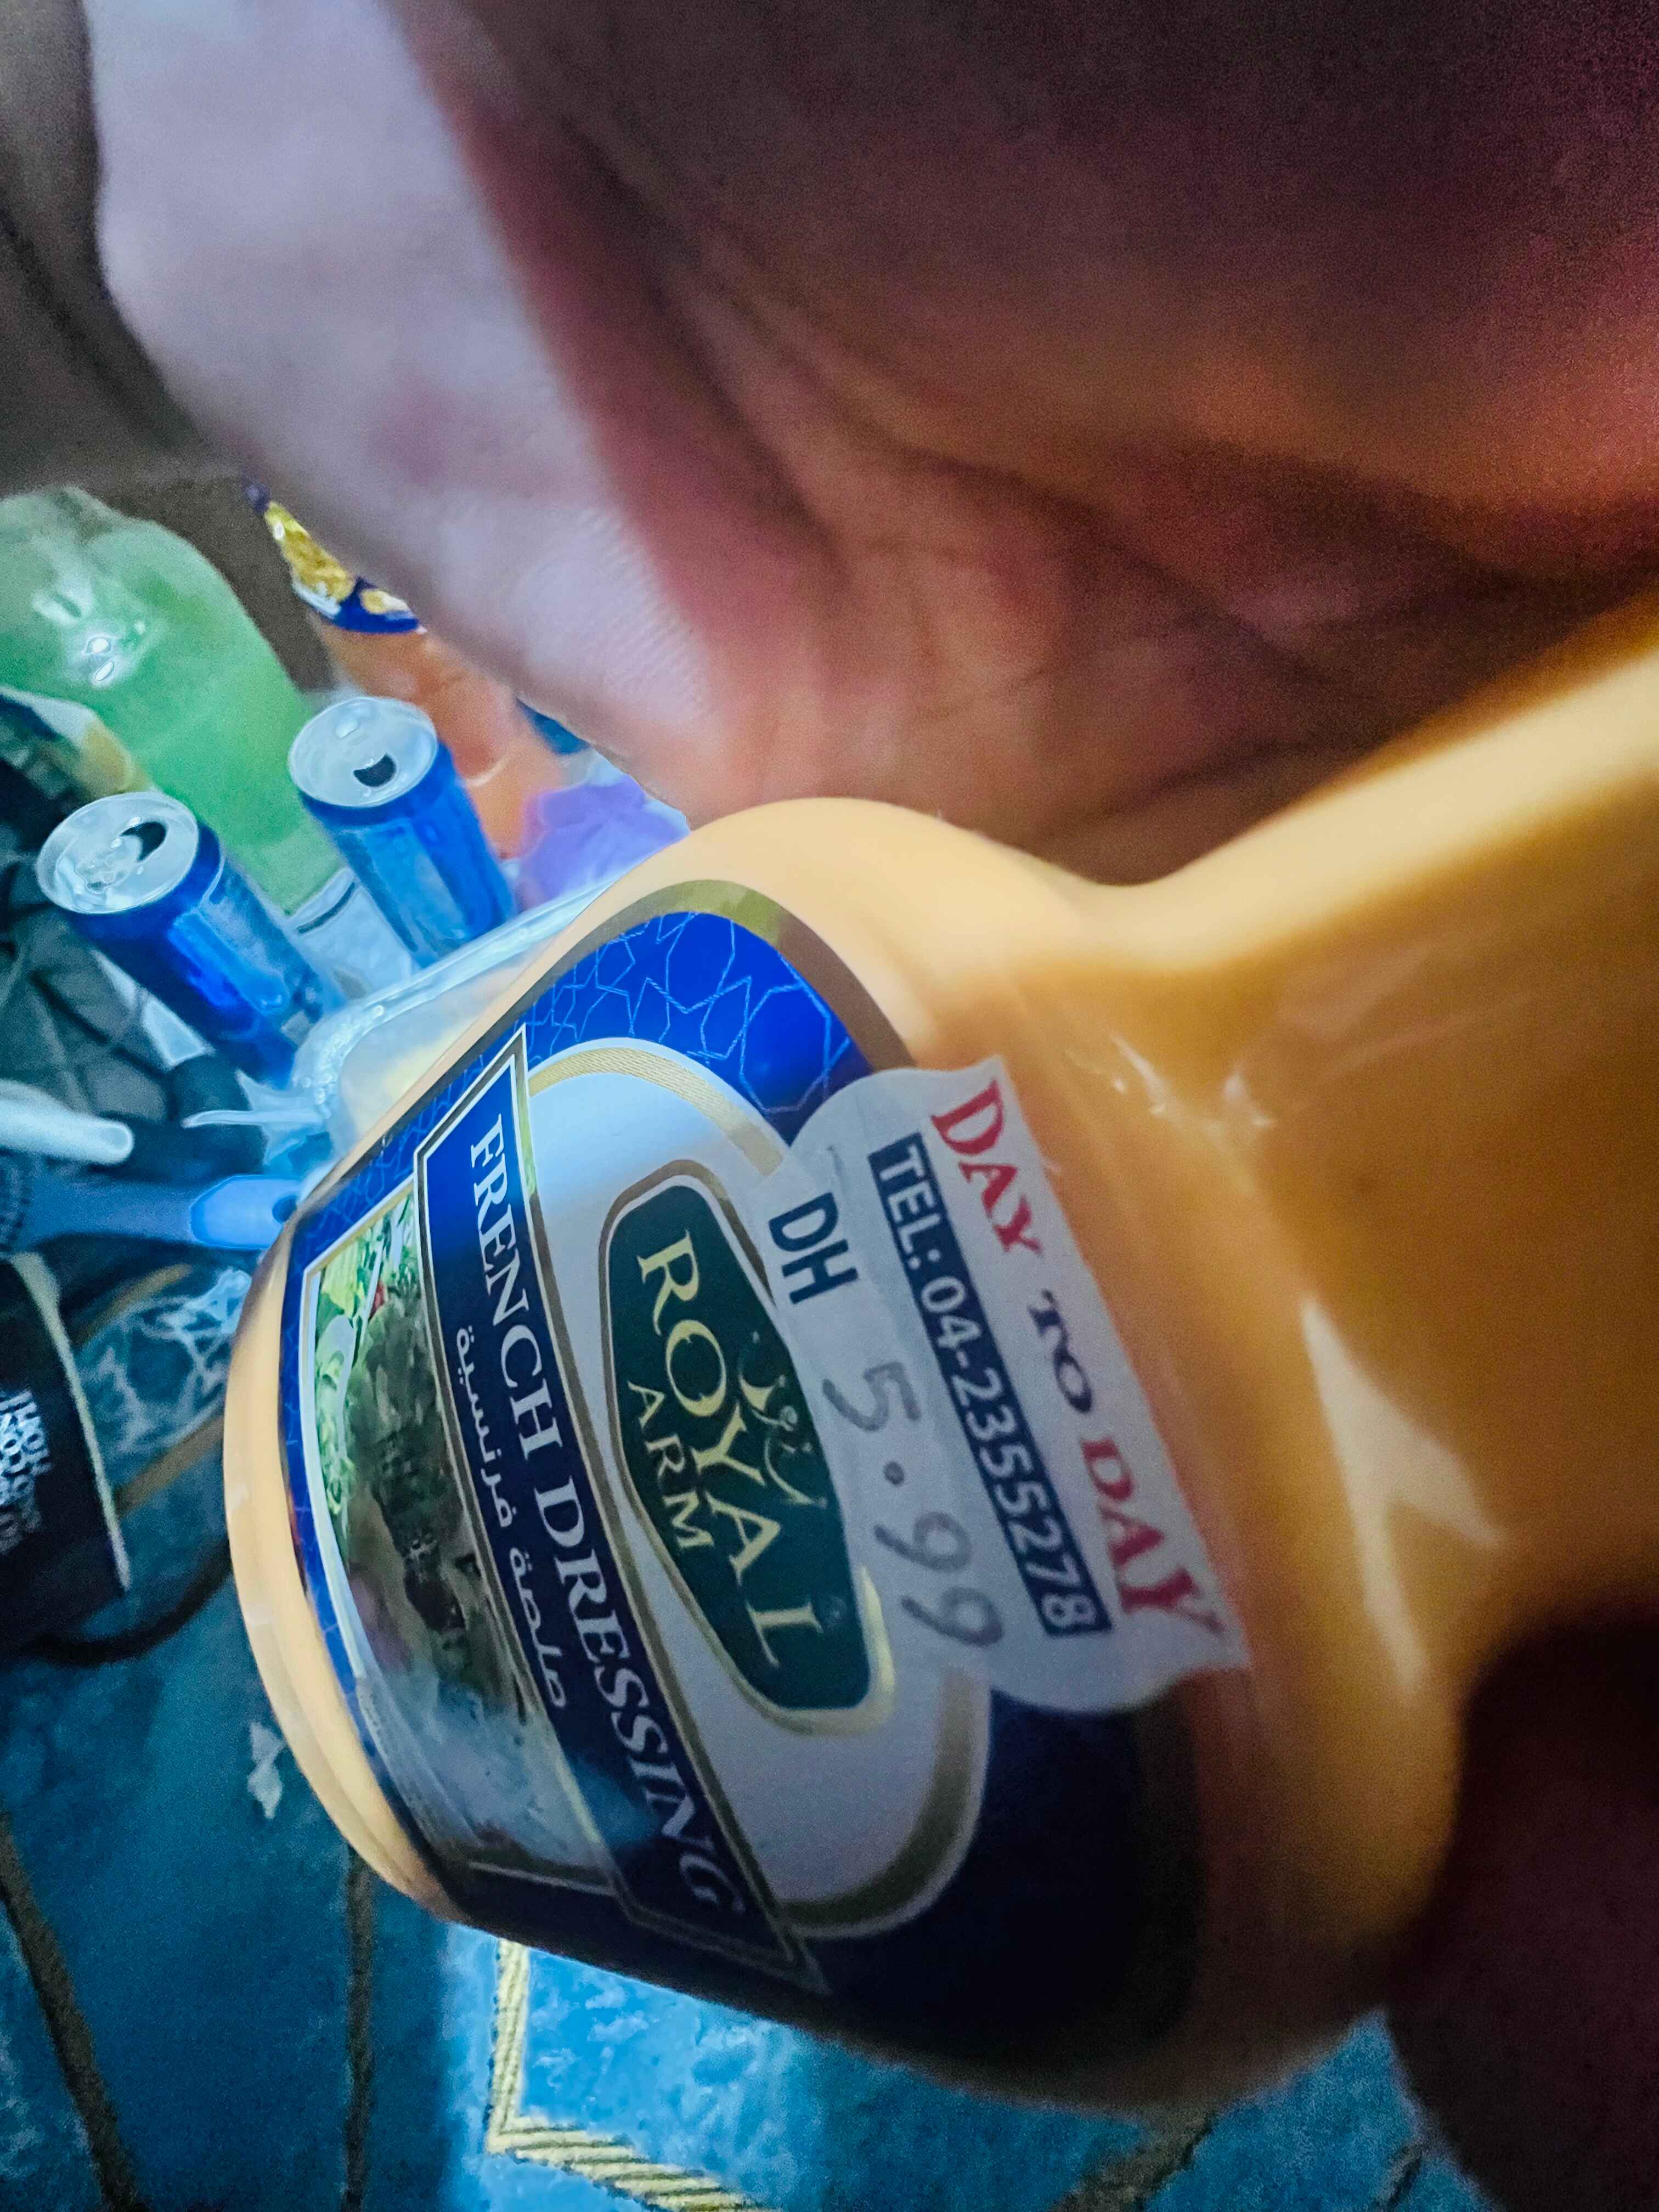PriceTagSmall: (756, 1038, 1260, 1733)
